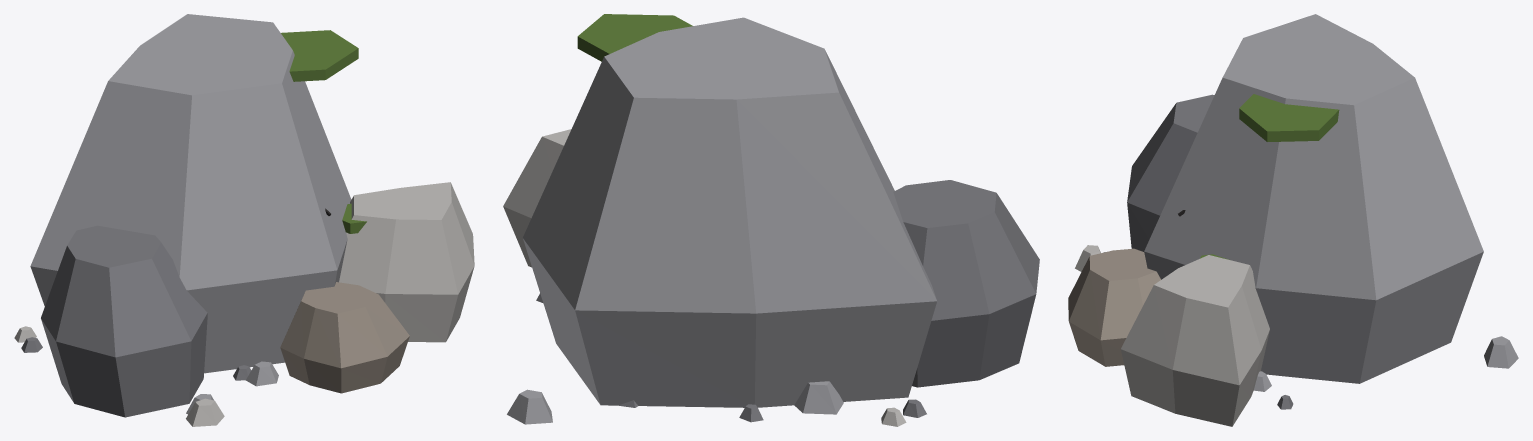
The model's file is stone_1.obj.
The picture shows the model from 3 angles, left to right: view 1: azimuth 30°, elevation 25°; view 2: azimuth 150°, elevation 25°; view 3: azimuth 270°, elevation 25°; orthographic projection. The views are drawn at different scales.
Visible parts, largest first — view 1: Boulder, Moss, Pebble; view 2: Boulder, Pebble, Moss; view 3: Boulder, Moss, Pebble.
Boxes of the visible parts, box(x1,y1,x2,y2) form: Boulder: box(30, 14, 474, 417); Moss: box(281, 30, 366, 233); Pebble: box(14, 326, 278, 426); Boulder: box(503, 17, 1039, 407); Pebble: box(507, 293, 926, 426); Moss: box(577, 14, 692, 61); Boulder: box(1068, 14, 1483, 426); Moss: box(1200, 94, 1339, 259); Pebble: box(1075, 245, 1518, 409).
Size of the model in its own units: 3.06 by 1.7 by 2.68.
